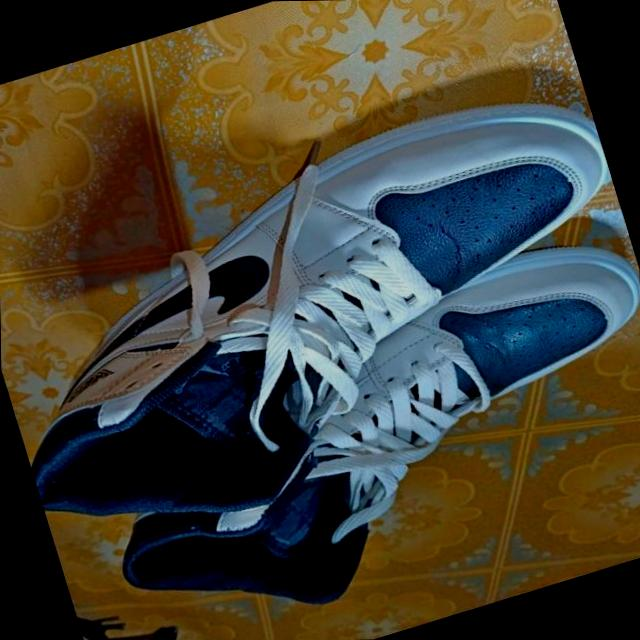nike_fake_jordan: (0, 59, 640, 571), (61, 219, 640, 640)
